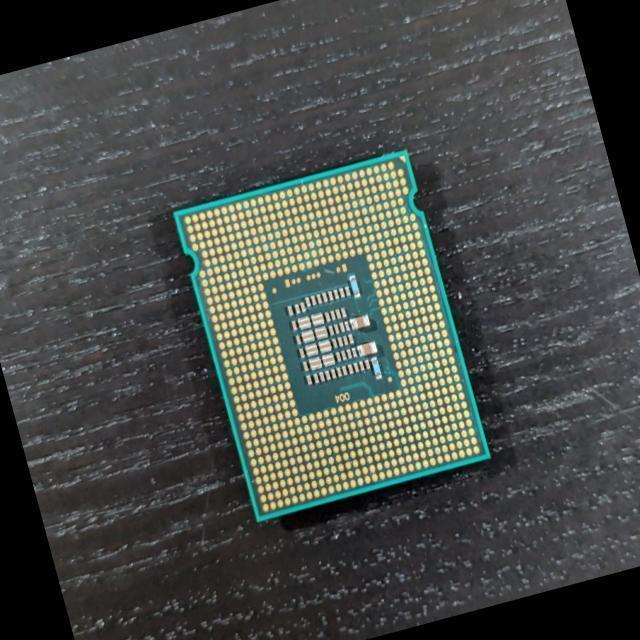CPU: (172, 147, 492, 523)
